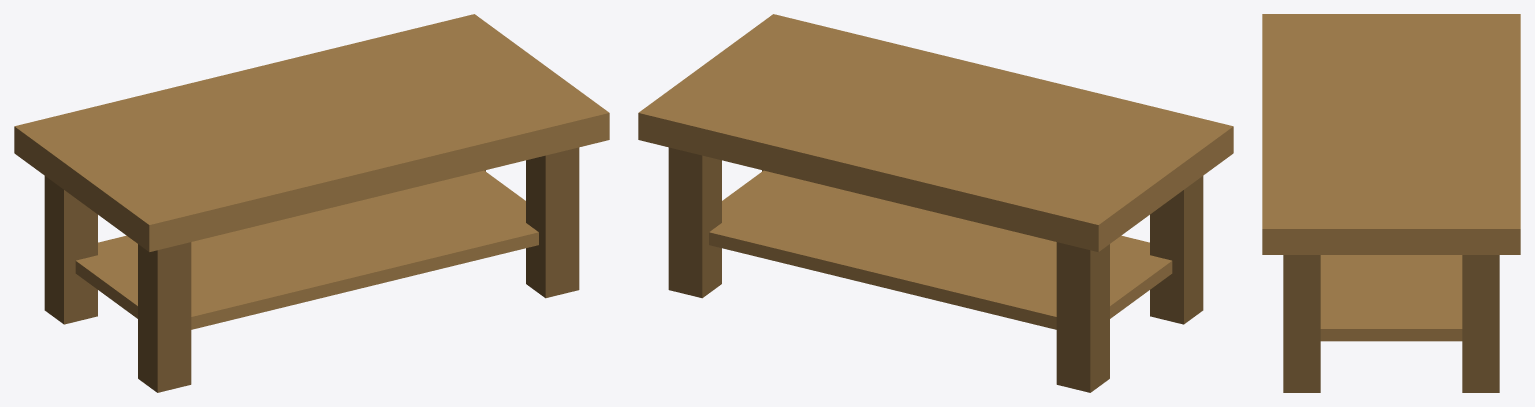
Rendered from Workbench.fbx.
3 views of the same model, side by side, from view 1: azimuth 30°, elevation 25°; view 2: azimuth 150°, elevation 25°; view 3: azimuth 270°, elevation 25° (orthographic). The views are drawn at different scales.
Visible parts, largest first — view 1: Workbench; view 2: Workbench; view 3: Workbench.
Part boxes in pixels (left/top/right/bottom): Workbench: left=14, top=14, right=609, bottom=392; Workbench: left=638, top=14, right=1233, bottom=392; Workbench: left=1262, top=14, right=1520, bottom=392.
Bounding box in the file's own units: 240 × 90 × 122.
